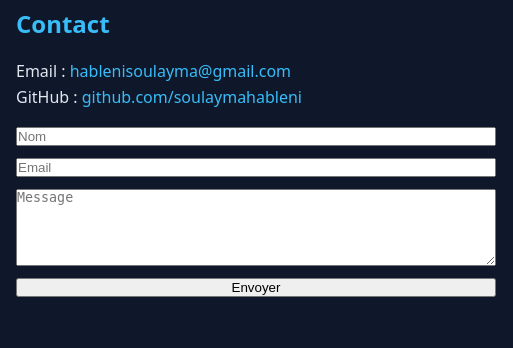
it: Formulaire Contact › affiche une erreur quand l'API répond 400
Step 1. Type "Soulayma" into the field with placeholder "Nom" → (256, 136), box [16,127,496,146]
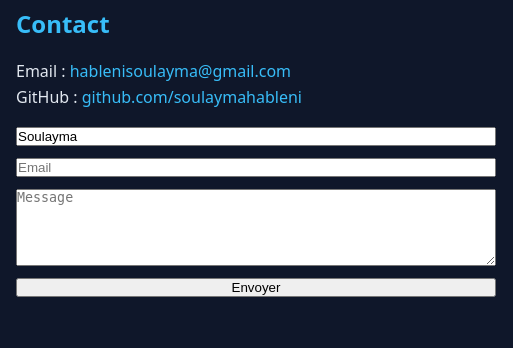
Step 2. Type "test@example.com" into the field with placeholder "Email" → (256, 167), box [16,158,496,177]
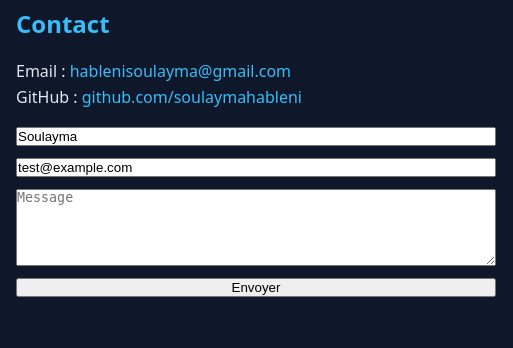
Step 3. Type "Bonjour, ceci est un test" into the text box with placeholder "Message" → (256, 227), box [16,189,496,266]
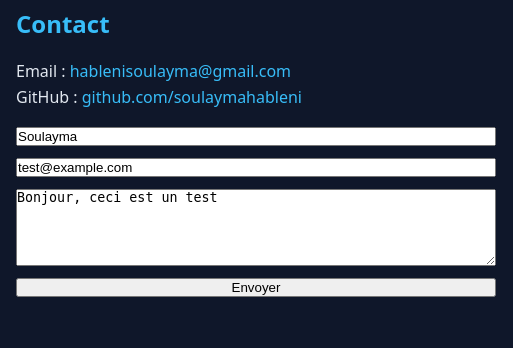
Step 4. Click the button "Envoyer" → (256, 287), box [16,278,496,297]
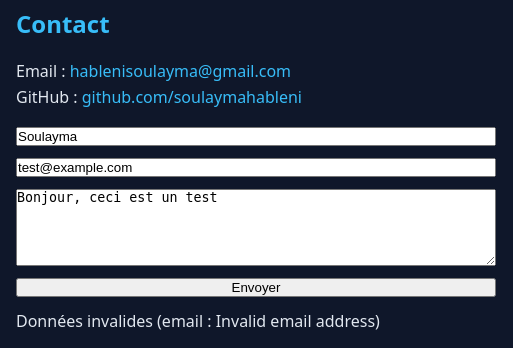
Check: the text "Données invalides (email : Invalid email address)" is shown, box [16,310,380,332]
